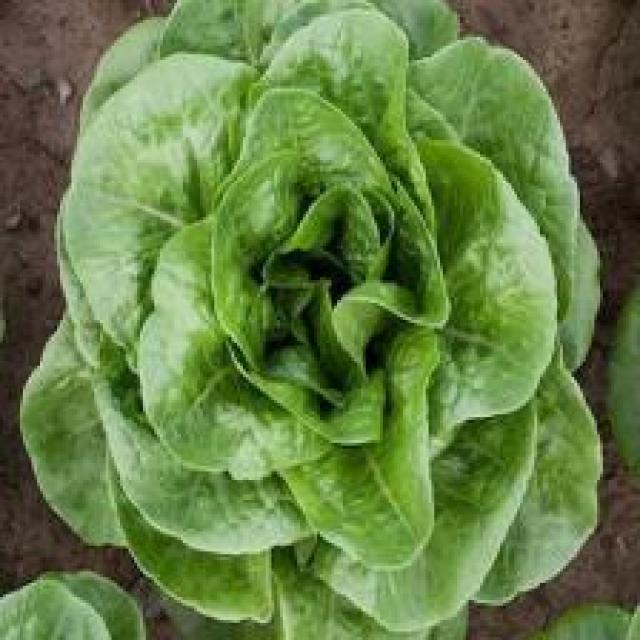Lettuce: (30, 0, 607, 636)
